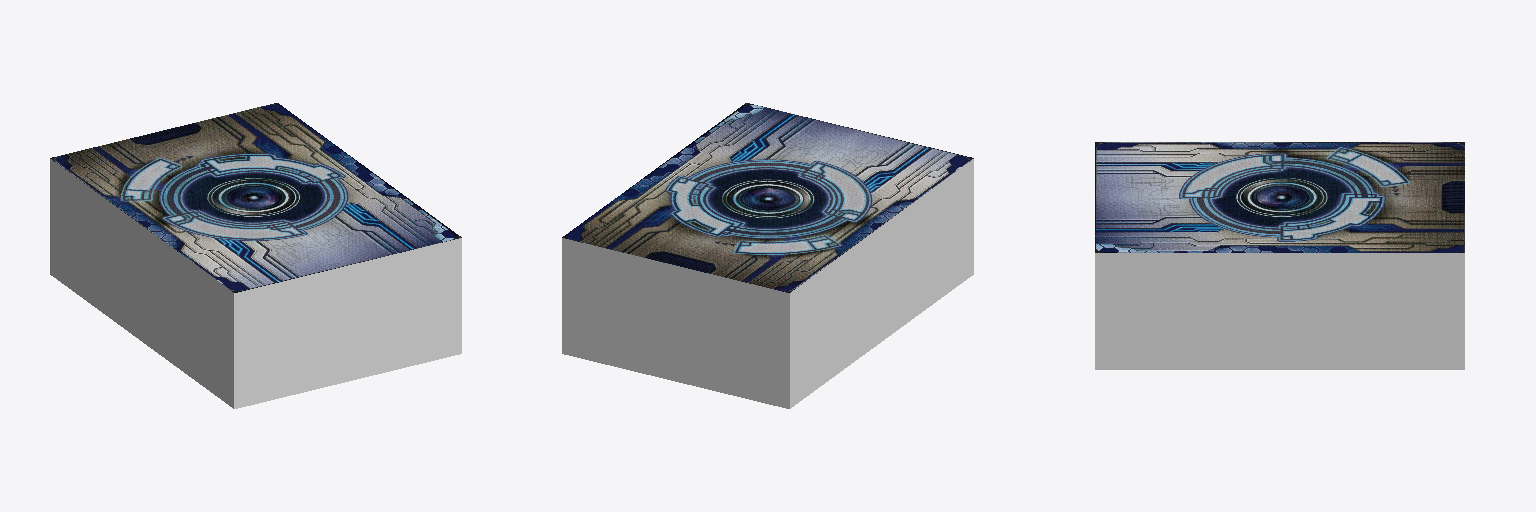
3 renders of one model, left to right at view 1: azimuth 30°, elevation 25°; view 2: azimuth 150°, elevation 25°; view 3: azimuth 270°, elevation 25°, orthographic.
Visible parts, largest first — view 1: Card; view 2: Card; view 3: Card.
Boxes of the visible parts, x1,y1,x2,y2 form: Card: [50, 103, 461, 408]; Card: [562, 103, 973, 408]; Card: [1095, 142, 1464, 369].
Size of the model in its own units: 0.6356 by 0.3098 by 0.8925.
1 materials, 1 textured.